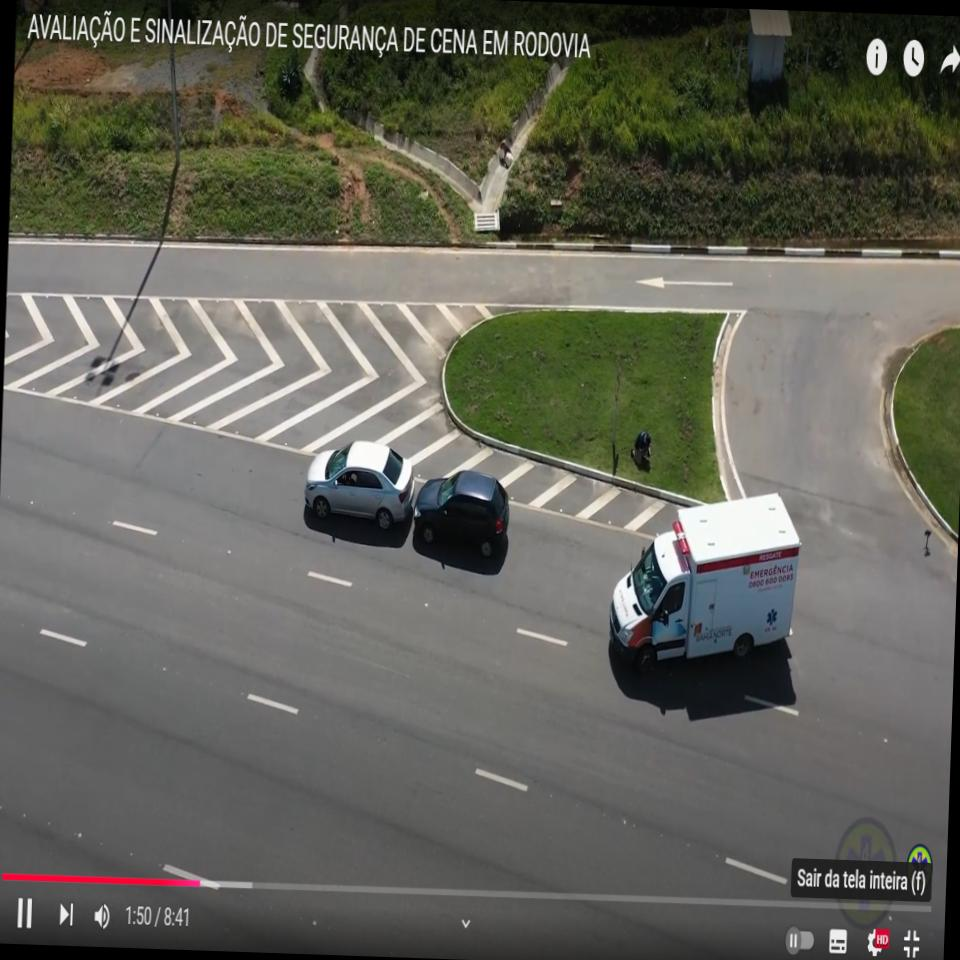bombeiro: (606, 484, 804, 690)
